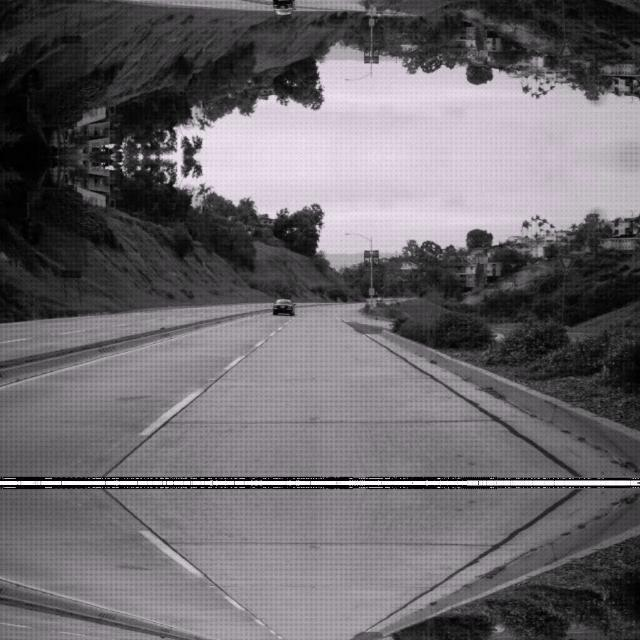yield: (557, 38, 577, 61), (557, 252, 577, 274)
